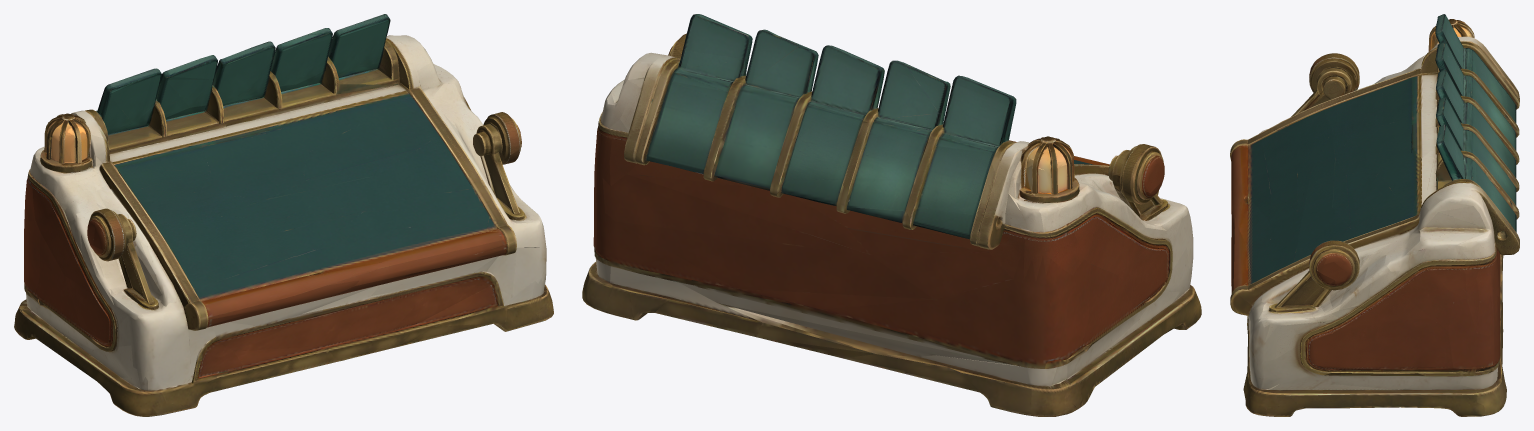
The model's file is daybook.glb.
3 renders of one model, left to right at view 1: azimuth 30°, elevation 25°; view 2: azimuth 150°, elevation 25°; view 3: azimuth 270°, elevation 25°, orthographic. The views are drawn at different scales.
Visible parts, largest first — view 1: Daybook; view 2: Daybook; view 3: Daybook.
Part boxes in pixels (left/top/right/bottom): Daybook: left=14, top=14, right=553, bottom=416; Daybook: left=582, top=14, right=1201, bottom=416; Daybook: left=1230, top=14, right=1519, bottom=416.
Bounding box in the file's own units: 0.78 × 0.4355 × 0.4713.
1 material, 1 textured.
